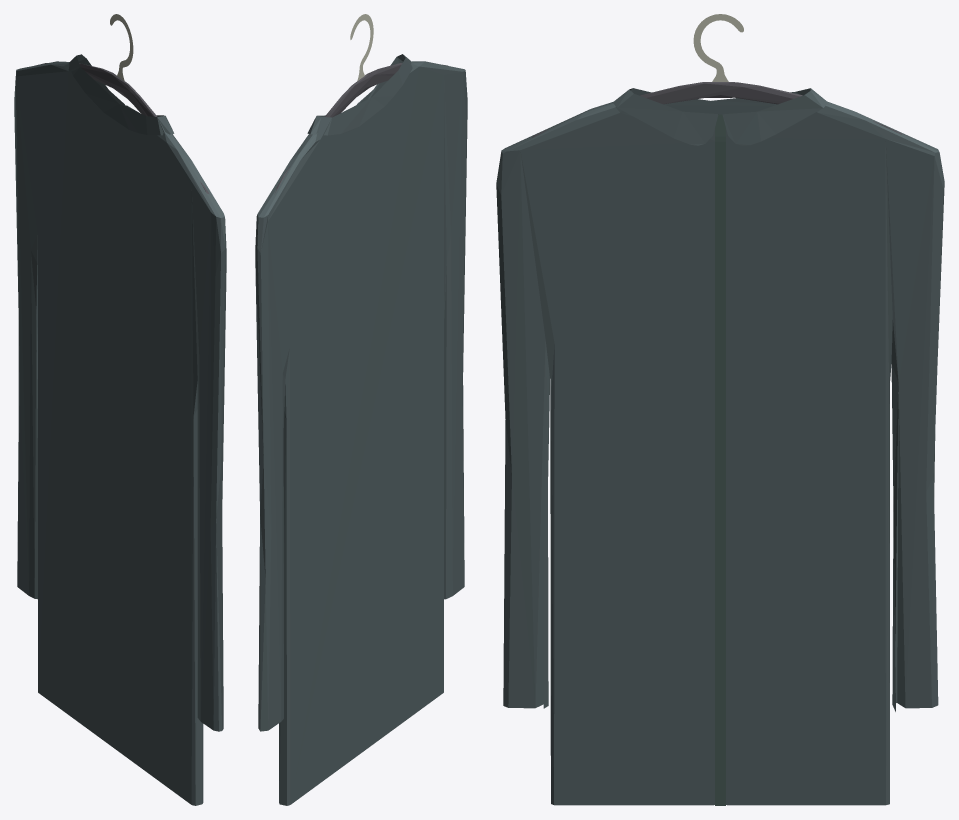
Rendered from Prefab_Array_ButtonupShirt.glb.
3 views of the same model, side by side, from view 1: azimuth 30°, elevation 25°; view 2: azimuth 150°, elevation 25°; view 3: azimuth 270°, elevation 25° (orthographic). The views are drawn at different scales.
Parts seen in each view (by area): view 1: ShirtHanger.001; view 2: ShirtHanger.001; view 3: ShirtHanger.001.
Boxes of the visible parts, <box> form: ShirtHanger.001: <box>14,14,226,805</box>; ShirtHanger.001: <box>255,14,467,805</box>; ShirtHanger.001: <box>496,14,944,805</box>.
Bounding box in the file's own units: 0.0266 × 0.8579 × 0.4422.
1 material, 1 textured.
